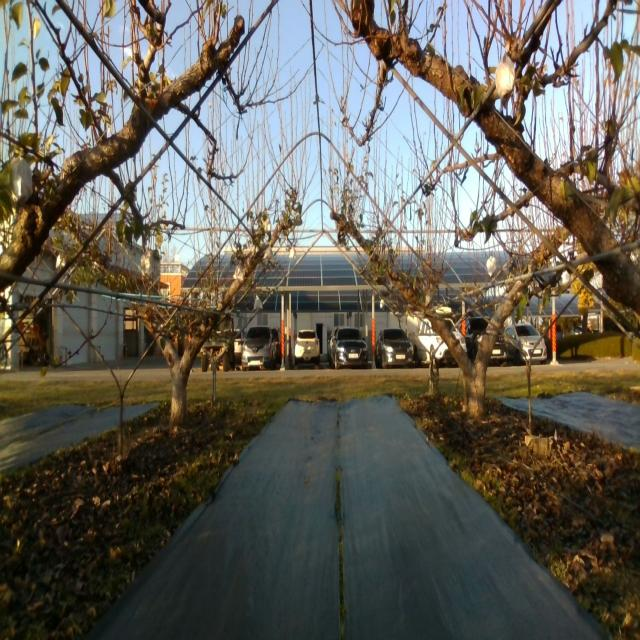pearbags: (8, 157, 32, 205), (496, 53, 515, 110), (141, 249, 154, 276), (486, 256, 497, 277), (233, 262, 244, 281)
